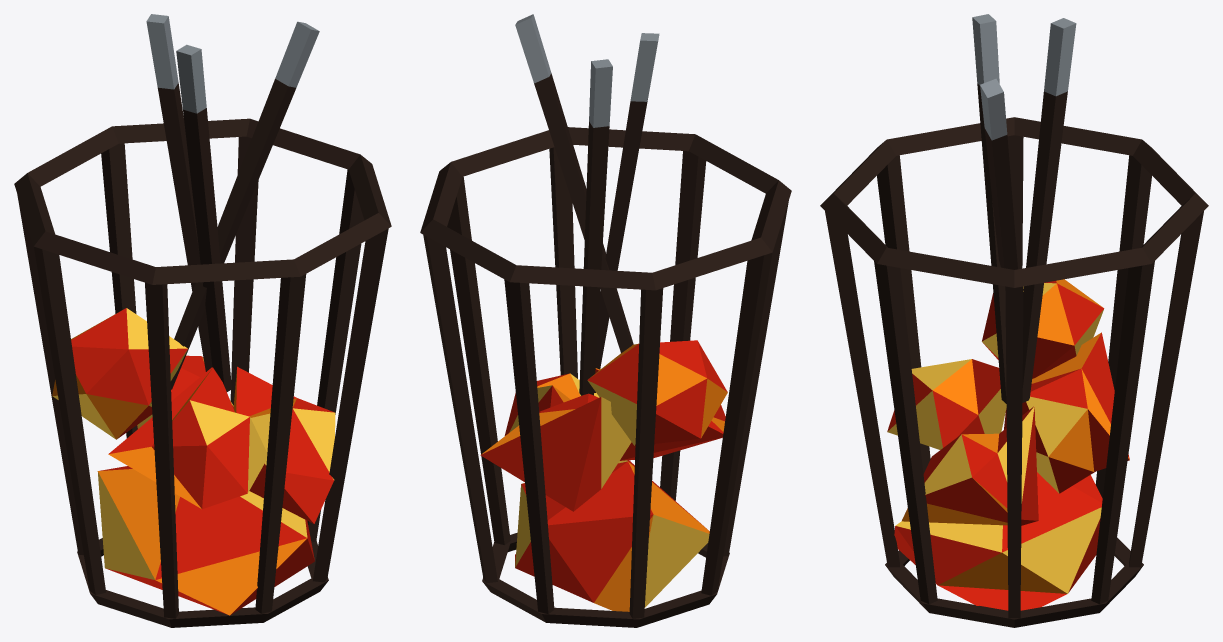
3 renders of one model, left to right at view 1: azimuth 30°, elevation 25°; view 2: azimuth 150°, elevation 25°; view 3: azimuth 270°, elevation 25°, orthographic.
Visible parts, largest first — view 1: Torus003; view 2: Torus003; view 3: Torus003.
Boxes of the visible parts, x1,y1,x2,y2 form: Torus003: (14,14,391,627); Torus003: (420,14,791,627); Torus003: (820,14,1208,627).
Size of the model in its own units: 0.86 by 1.33 by 0.86.
